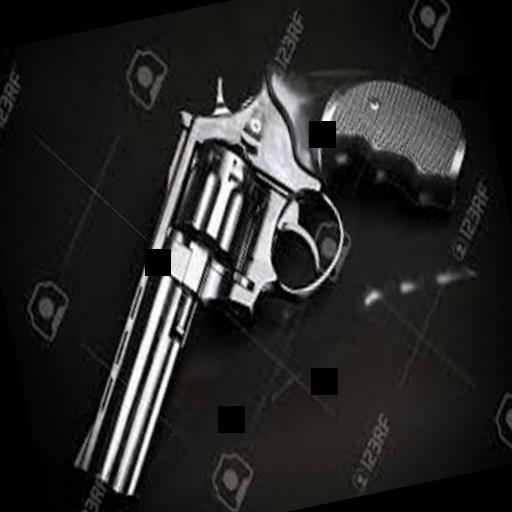Handgun: (0, 17, 512, 512)
